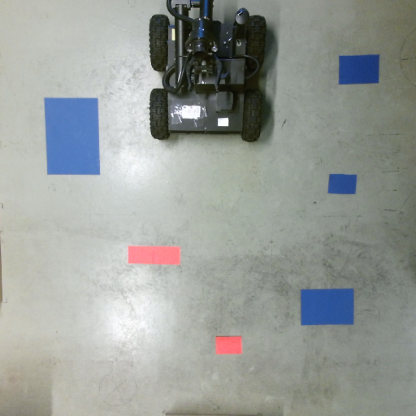Blue: (42, 97, 103, 178), (297, 288, 358, 327), (335, 53, 384, 85), (327, 173, 360, 194)
Jaguar: (145, 0, 266, 145)
Red: (126, 243, 182, 267), (214, 335, 242, 355)
